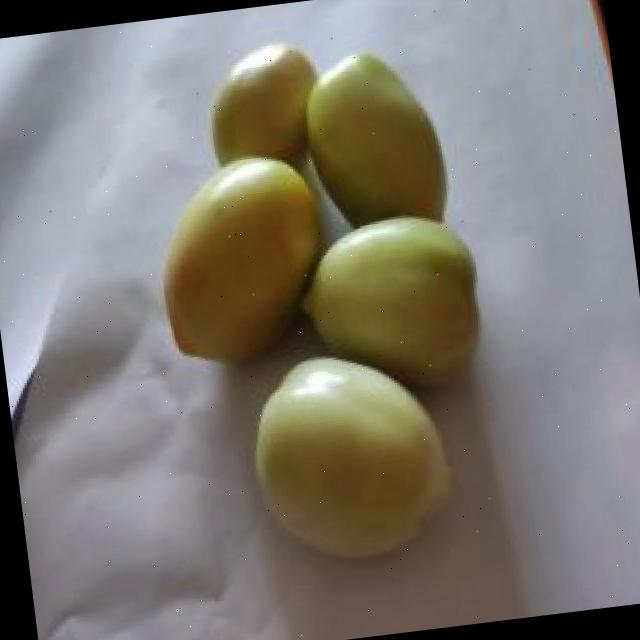tomato: (253, 355, 451, 557), (162, 156, 320, 363), (299, 214, 479, 384), (305, 46, 446, 228), (211, 42, 316, 169)
